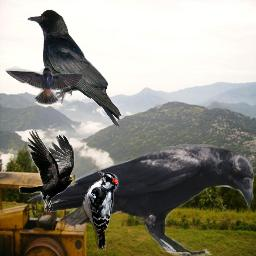Crow: (27, 144, 254, 256), (26, 9, 122, 127), (19, 129, 75, 214)
Swallow: (3, 66, 84, 105)
Woodpecker: (82, 170, 119, 250)
